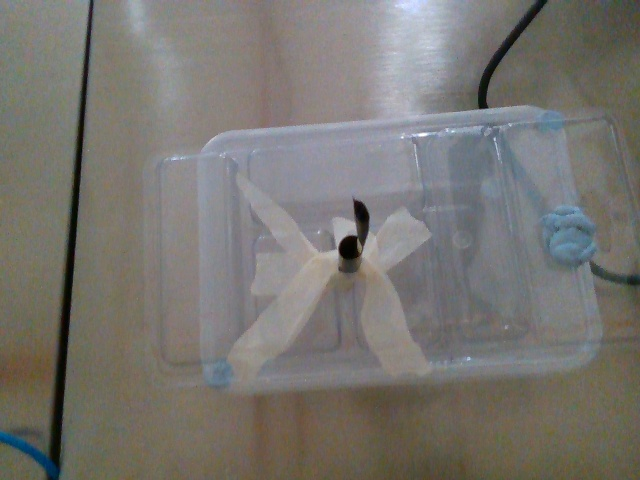test_strip: (352, 197, 367, 257)
